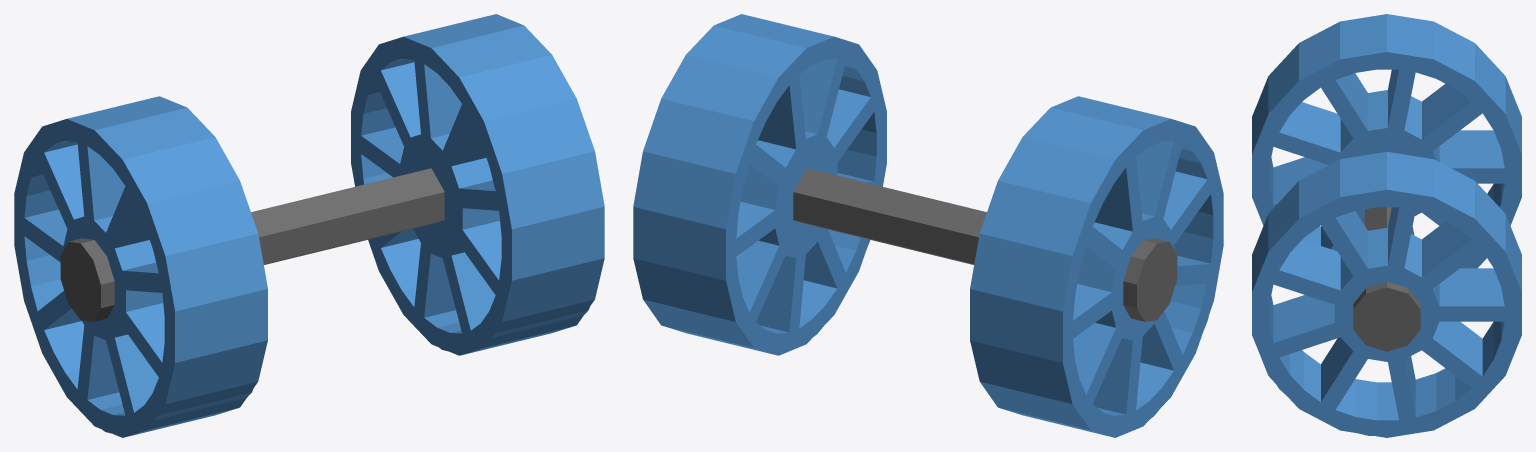
The model's file is end-effector-back-rollers.glb.
3 renders of one model, left to right at view 1: azimuth 30°, elevation 25°; view 2: azimuth 150°, elevation 25°; view 3: azimuth 270°, elevation 25°, orthographic. The views are drawn at different scales.
Visible parts, largest first — view 1: mesh97, mesh85, mesh135, mesh63, mesh64, mesh136, mesh1, mesh2, mesh134, mesh62, mesh65, mesh137 (+35 smaller); view 2: mesh97, mesh85, mesh142, mesh70, mesh69, mesh141, mesh4, mesh3, mesh143, mesh71, mesh68, mesh140 (+32 smaller); view 3: mesh176, mesh6, mesh178, mesh114, mesh34, mesh173, mesh17, mesh170, mesh138, mesh139, mesh66, mesh67 (+35 smaller).
Boxes of the visible parts, <box> form: mesh97: <box>351,36,511,355</box>; mesh85: <box>14,119,174,437</box>; mesh135: <box>502,151,604,229</box>; mesh63: <box>165,233,267,311</box>; mesh64: <box>147,181,258,255</box>; mesh136: <box>484,98,594,173</box>; mesh1: <box>259,192,444,263</box>; mesh2: <box>251,168,444,237</box>; mesh134: <box>512,207,604,280</box>; mesh62: <box>175,289,267,362</box>; mesh65: <box>123,137,239,203</box>; mesh137: <box>459,55,576,120</box>; mesh97: <box>726,36,886,355</box>; mesh85: <box>1063,119,1223,437</box>; mesh142: <box>633,151,735,229</box>; mesh70: <box>970,233,1072,311</box>; mesh69: <box>979,181,1090,255</box>; mesh141: <box>643,98,753,173</box>; mesh4: <box>793,192,978,263</box>; mesh3: <box>793,168,986,237</box>; mesh143: <box>633,207,725,280</box>; mesh71: <box>970,289,1062,362</box>; mesh68: <box>998,137,1114,203</box>; mesh140: <box>661,55,778,120</box>; mesh176: <box>1252,189,1521,437</box>; mesh6: <box>1252,52,1521,268</box>; mesh178: <box>1353,287,1420,351</box>; mesh114: <box>1439,268,1504,306</box>; mesh34: <box>1439,130,1504,168</box>; mesh173: <box>1273,295,1334,342</box>; mesh17: <box>1279,102,1340,152</box>; mesh170: <box>1279,240,1340,290</box>; mesh138: <box>1340,151,1386,197</box>; mesh139: <box>1387,151,1433,197</box>; mesh66: <box>1340,14,1386,59</box>; mesh67: <box>1387,14,1433,59</box>.
Size of the model in its own units: 0.1251 by 0.0774 by 0.0762.
